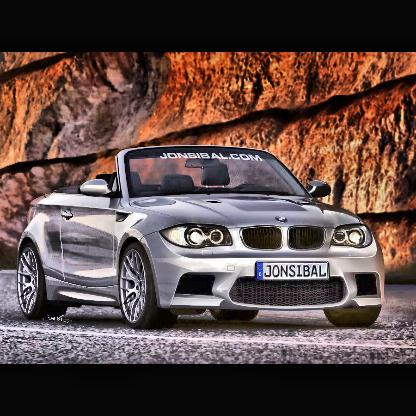BMW 1 Series Convertible 2012: (17, 144, 388, 332)
